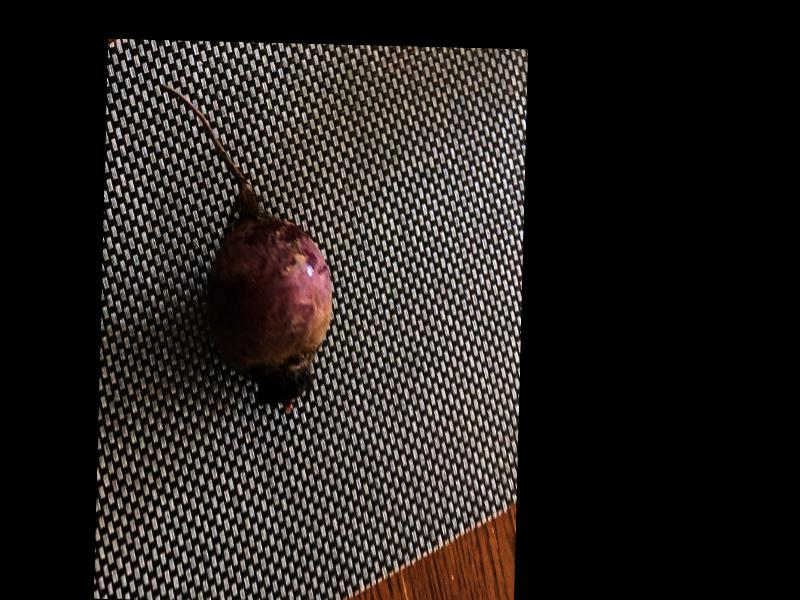Beet: (152, 82, 336, 414)
